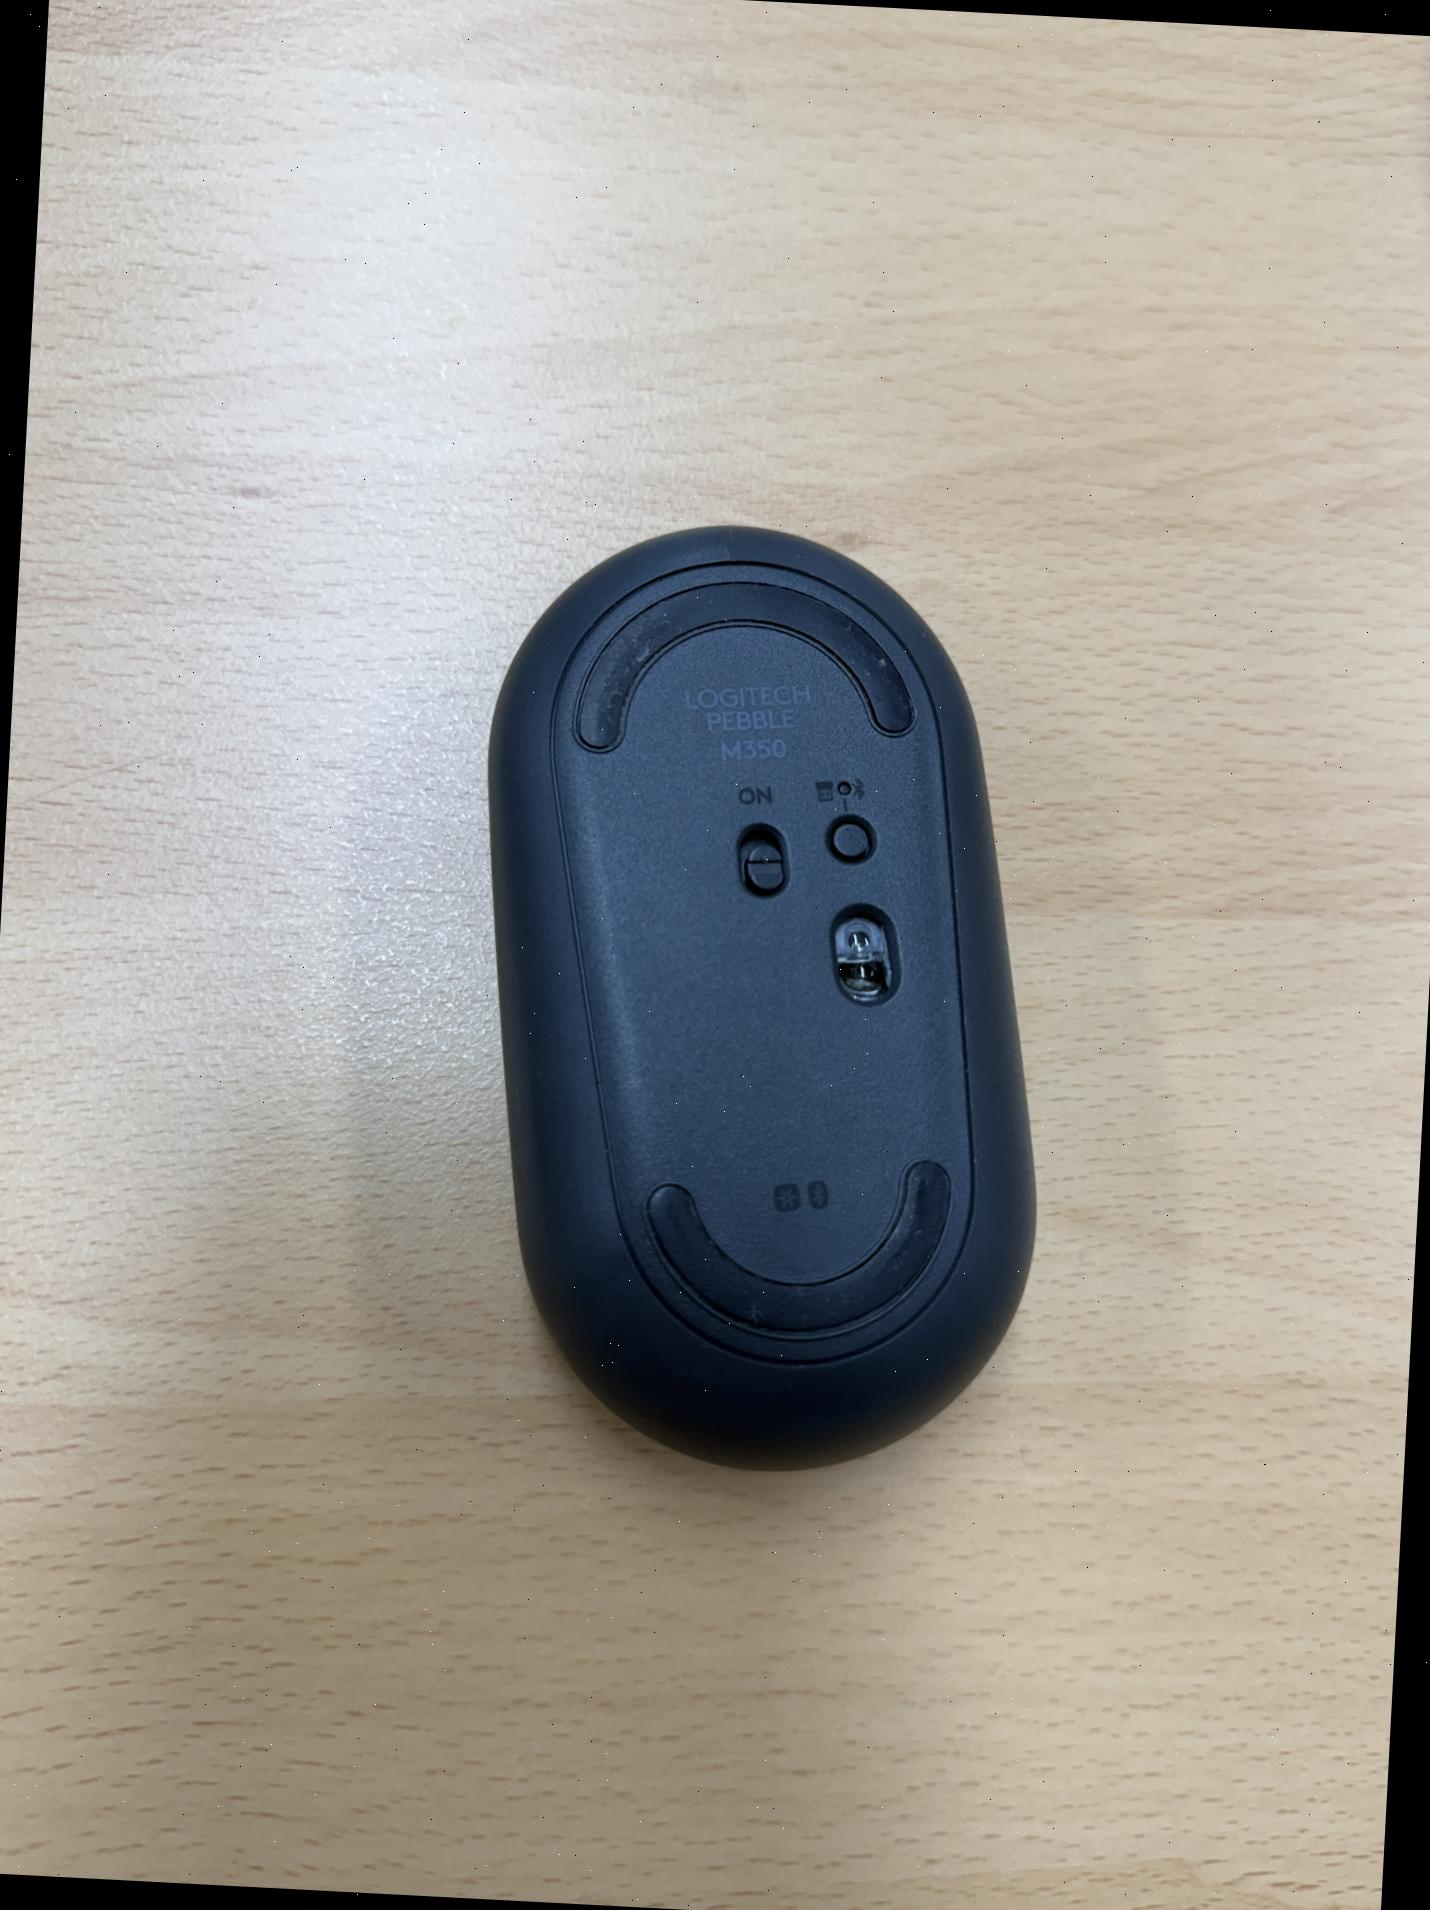back: (440, 511, 1083, 1496)
